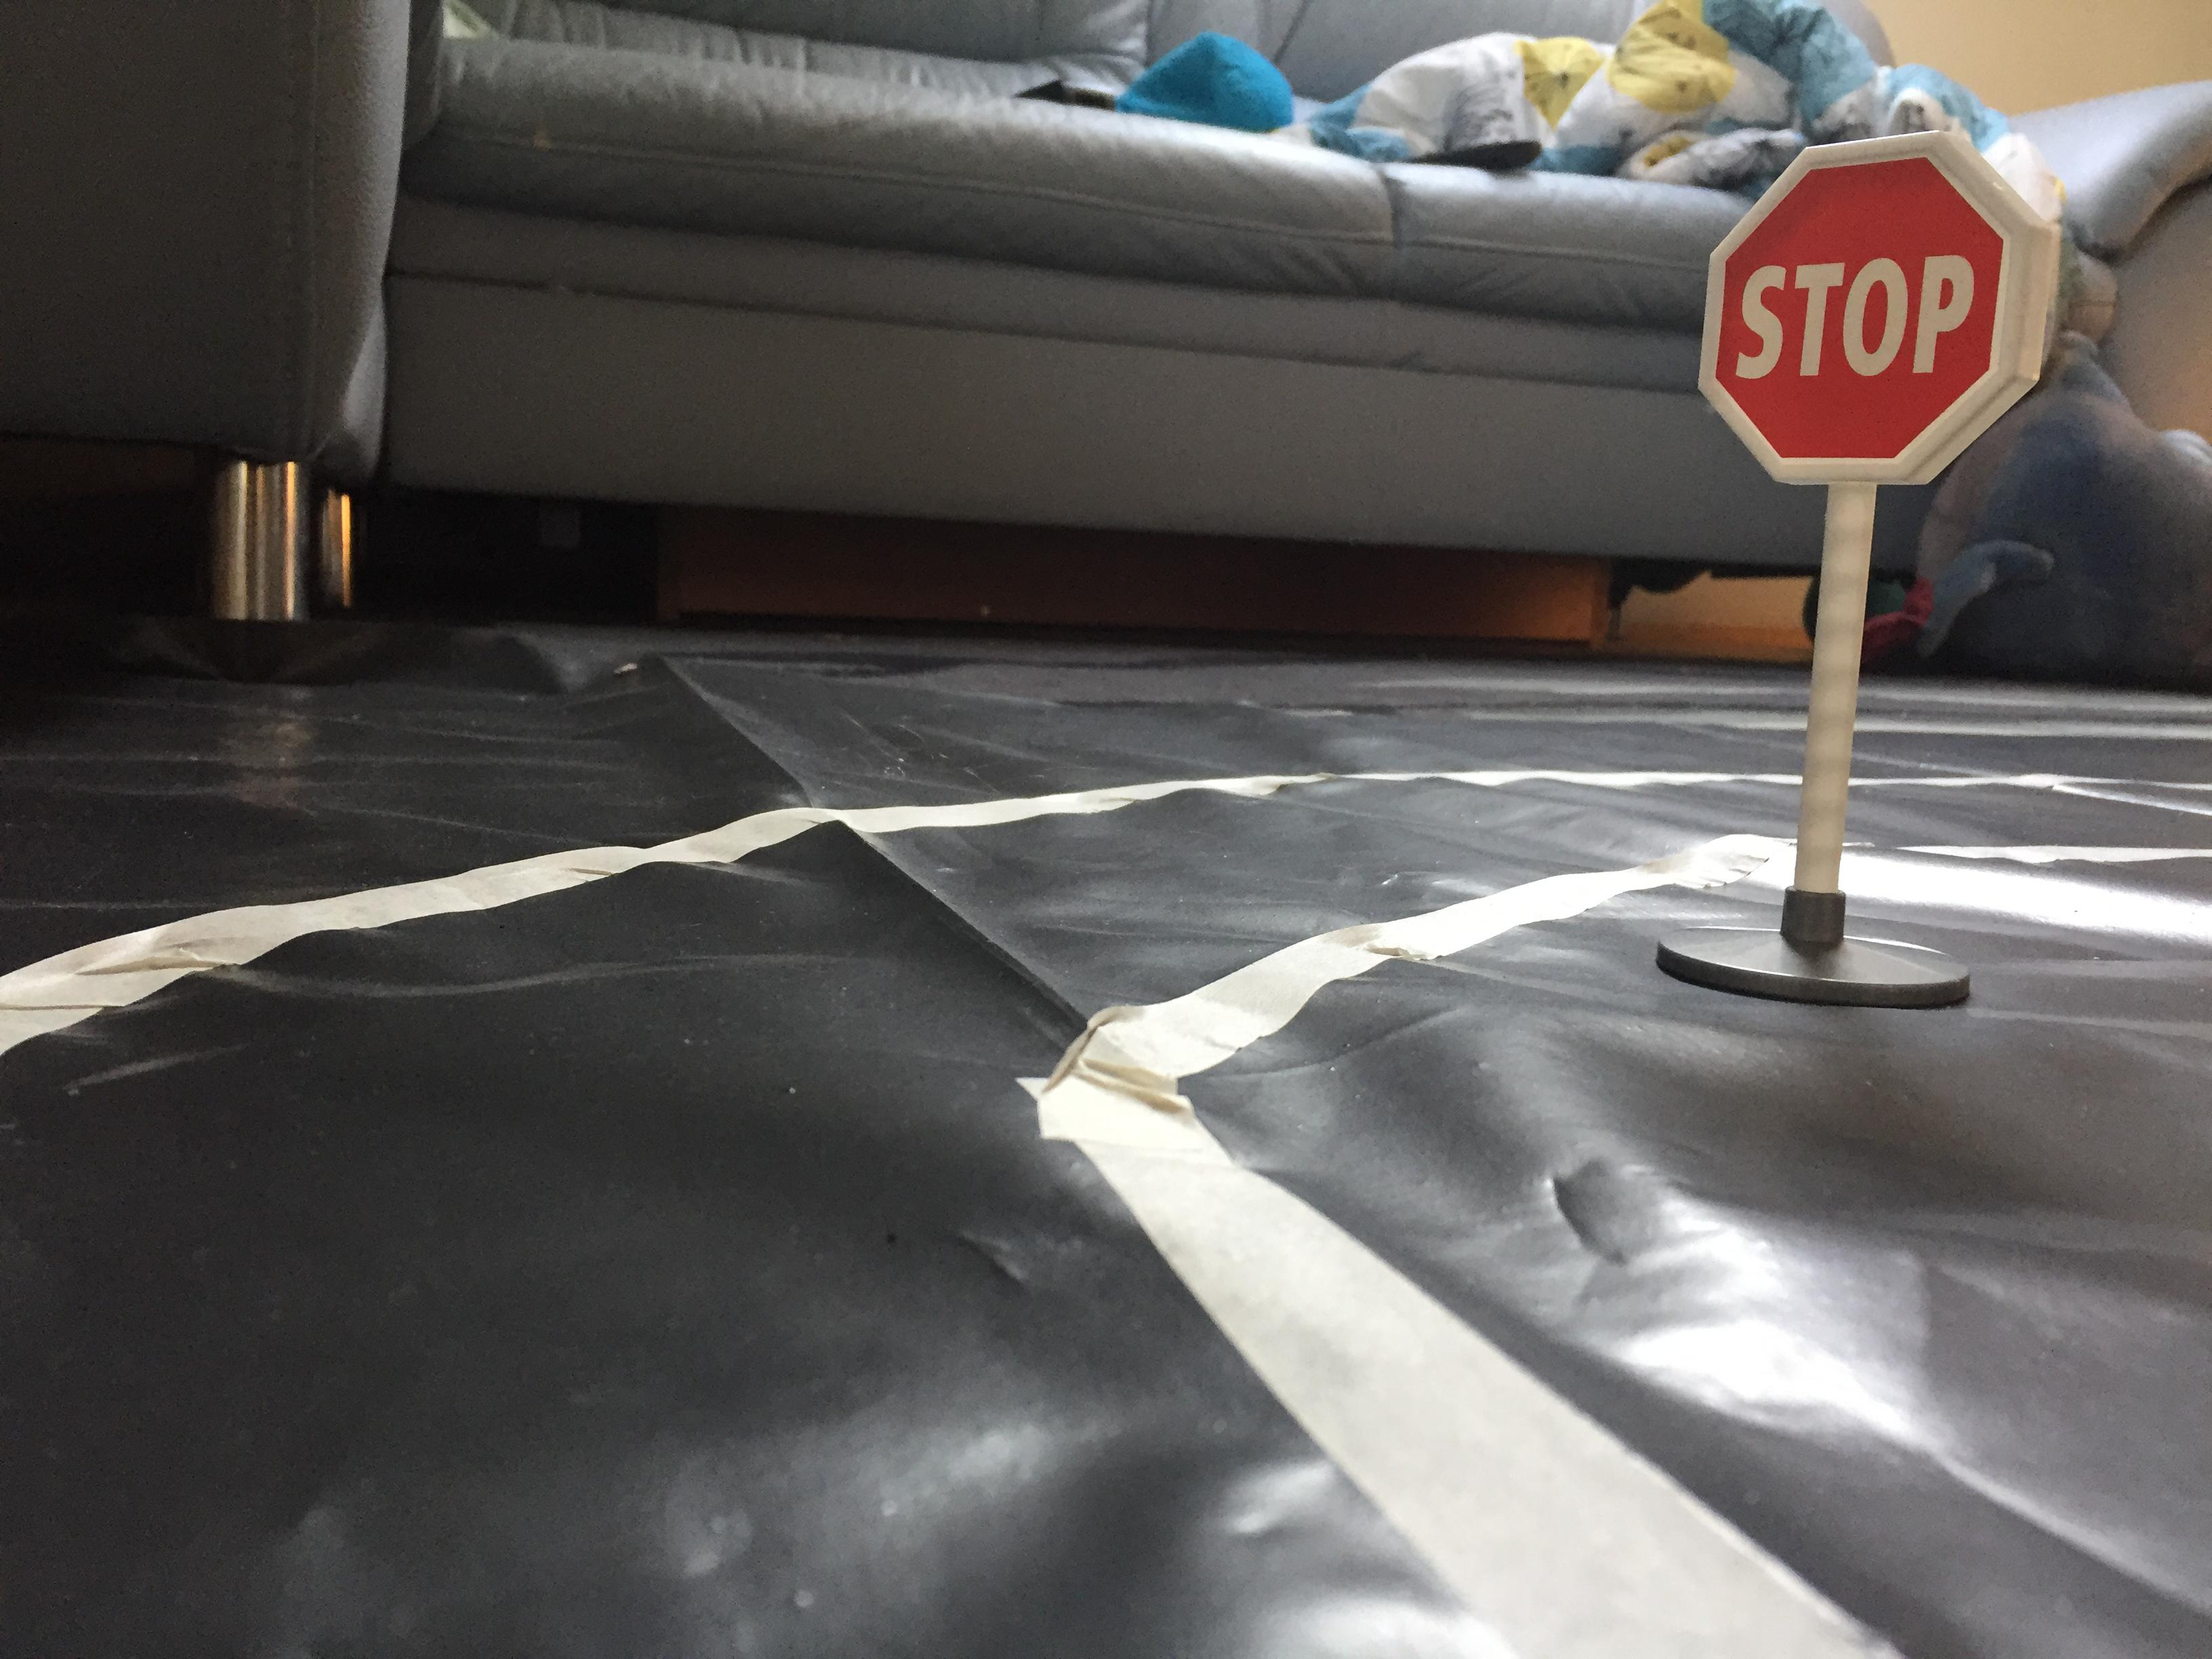stop: (1688, 132, 2078, 488)
